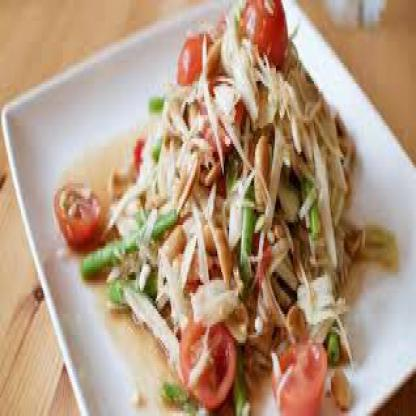Papaya Salad: (43, 6, 415, 414)
